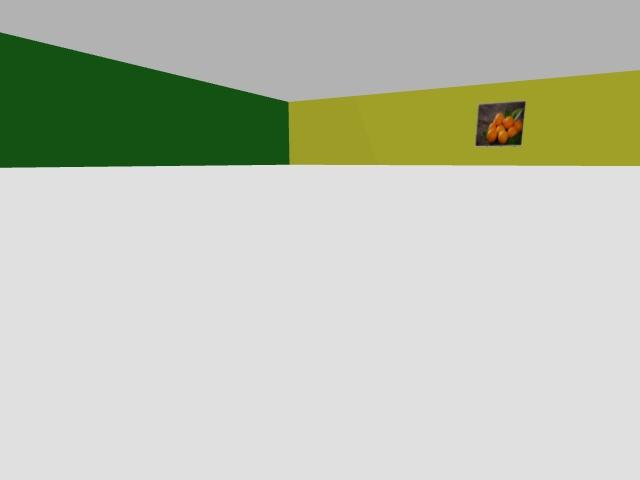orange: (486, 128, 497, 143), (503, 116, 513, 130), (498, 130, 508, 144), (507, 126, 518, 137), (494, 113, 503, 126), (514, 120, 522, 131), (496, 125, 506, 133), (492, 118, 501, 126), (486, 121, 494, 130), (488, 121, 495, 128)
